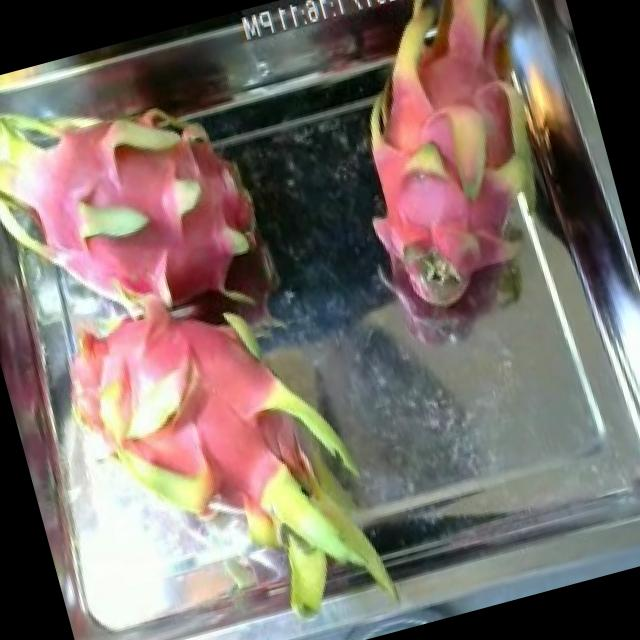Fruit: (0, 59, 70, 142)
